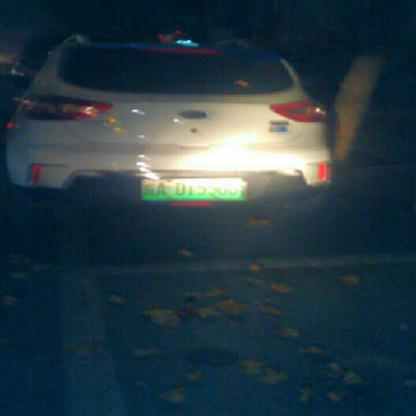lp: (137, 177, 245, 203)
